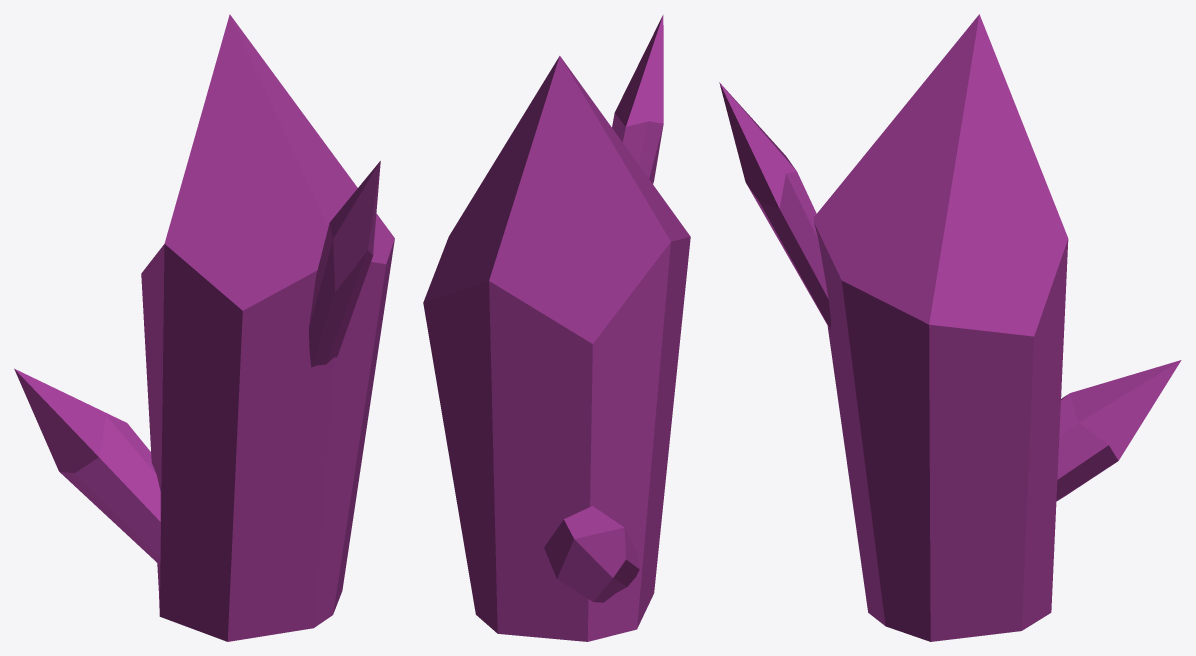
Rendered from Crystal2.fbx.
3 renders of one model, left to right at view 1: azimuth 30°, elevation 25°; view 2: azimuth 150°, elevation 25°; view 3: azimuth 270°, elevation 25°, orthographic. The views are drawn at different scales.
Parts seen in each view (by area): view 1: pCube159; view 2: pCube159; view 3: pCube159.
Boxes of the visible parts, <box> form: pCube159: <box>14,14,394,641</box>; pCube159: <box>423,15,690,641</box>; pCube159: <box>719,14,1181,641</box>.
Bounding box in the file's own units: 1.45 × 3.16 × 2.26.
